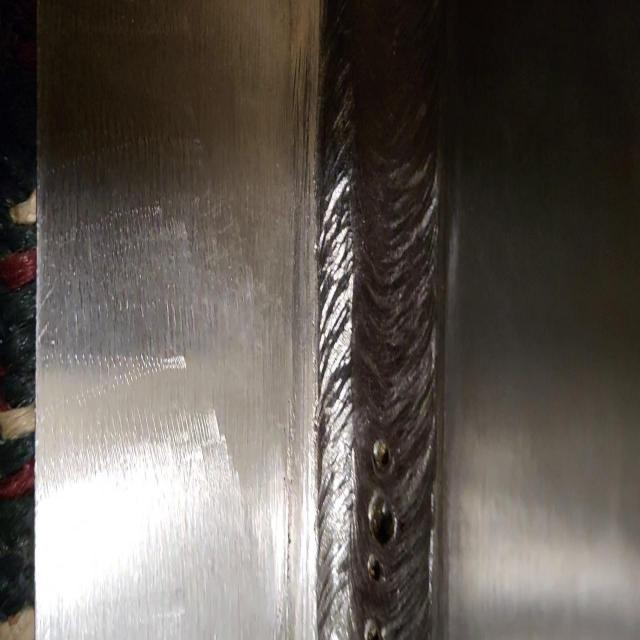Welding Line: (327, 7, 428, 640)
Workpiece: (37, 4, 640, 639)
porosity: (366, 437, 396, 639)
